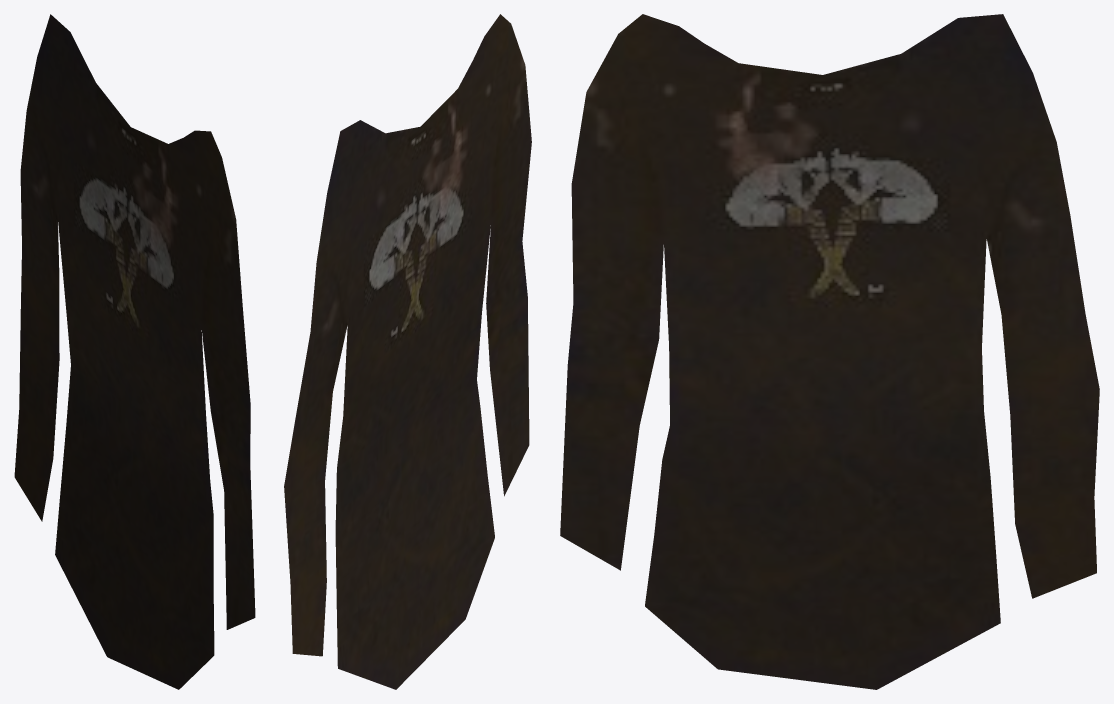
Rendered from Tee_Long.FBX.
3 renders of one model, left to right at view 1: azimuth 30°, elevation 25°; view 2: azimuth 150°, elevation 25°; view 3: azimuth 270°, elevation 25°, orthographic. The views are drawn at different scales.
Parts seen in each view (by area): view 1: Tee_Long; view 2: Tee_Long; view 3: Tee_Long.
Part boxes in pixels (left/top/right/bottom): Tee_Long: left=14, top=14, right=255, bottom=689; Tee_Long: left=284, top=14, right=531, bottom=689; Tee_Long: left=560, top=14, right=1099, bottom=689.
Size of the model in its own units: 1.62 by 69.3 by 50.16.
